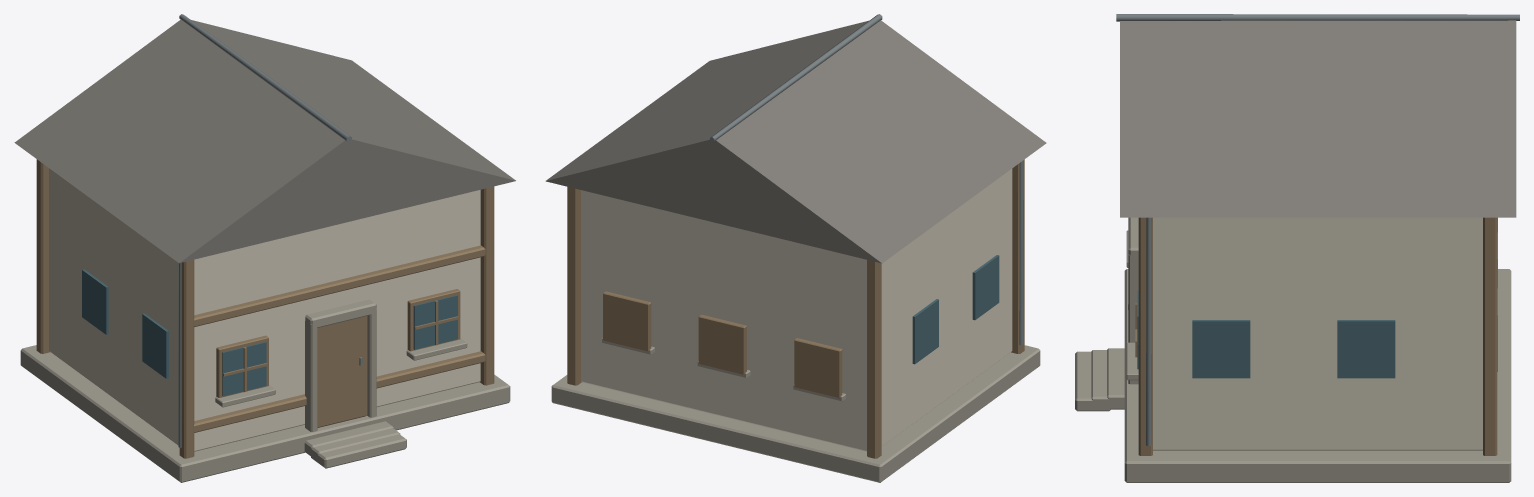
The model's file is bld_academie_a01.glb.
3 renders of one model, left to right at view 1: azimuth 30°, elevation 25°; view 2: azimuth 150°, elevation 25°; view 3: azimuth 270°, elevation 25°, orthographic. The views are drawn at different scales.
Parts seen in each view (by area): view 1: bld_academie_a01; view 2: bld_academie_a01; view 3: bld_academie_a01.
Boxes of the visible parts, box(x1,y1,x2,y2) form: bld_academie_a01: box(14, 14, 515, 482); bld_academie_a01: box(545, 14, 1046, 482); bld_academie_a01: box(1075, 14, 1519, 482).
Bounding box in the file's own units: 3.88 × 3.41 × 3.68.
